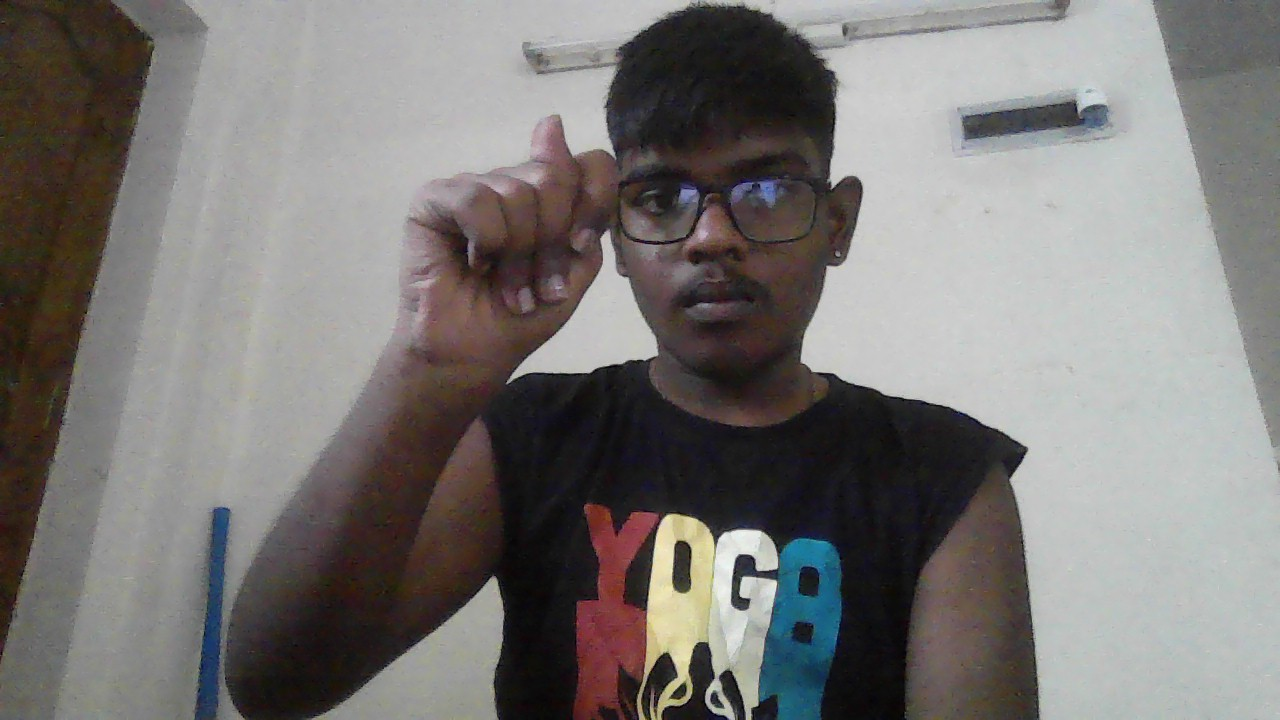T: (399, 113, 620, 355)
